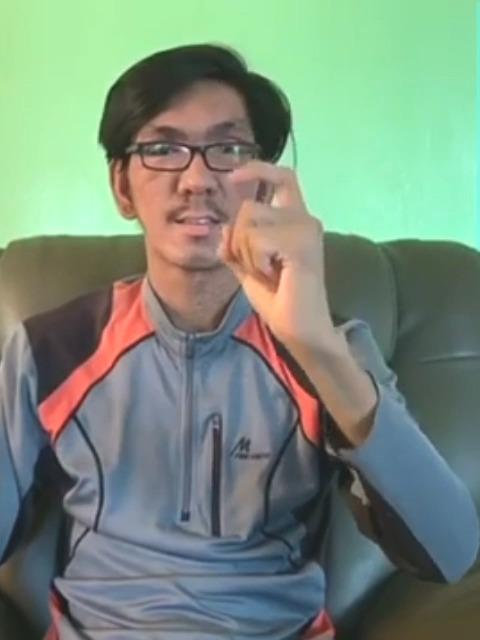X: (210, 153, 356, 341)
